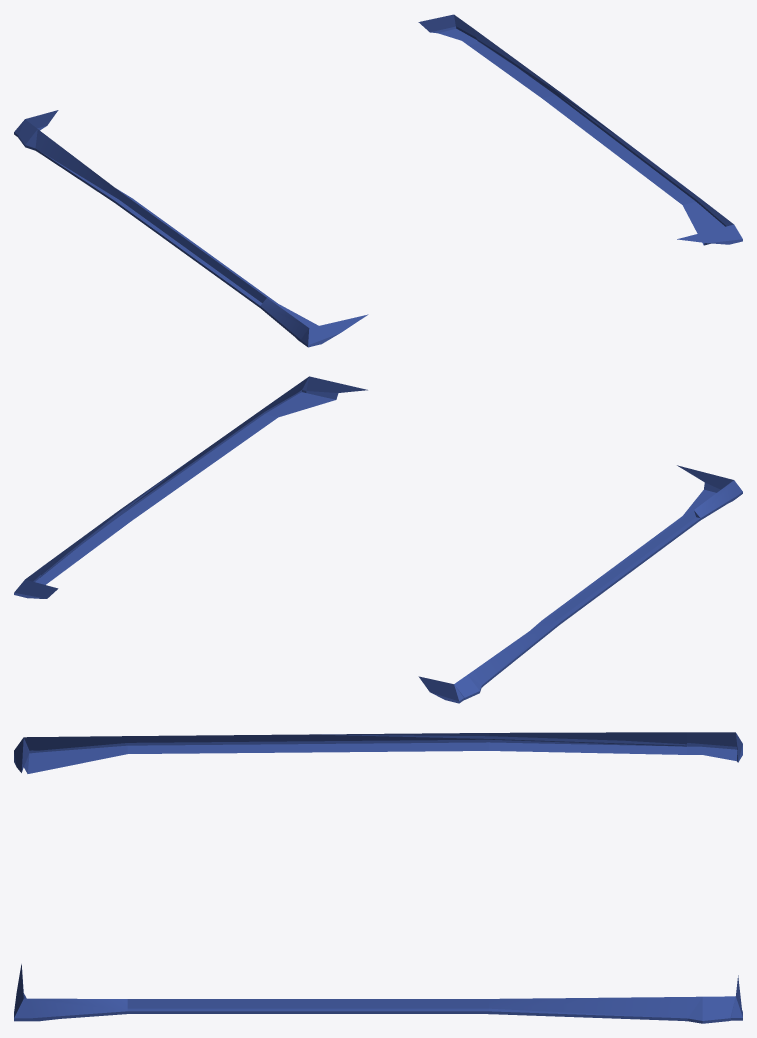
The model's file is Amg_Skirt_fx (1).fbx.
3 renders of one model, top to bottom at view 1: azimuth 30°, elevation 25°; view 2: azimuth 150°, elevation 25°; view 3: azimuth 270°, elevation 25°, orthographic. The views are drawn at different scales.
Parts seen in each view (by area): view 1: Amg:Amg_Skirt1, Amg:Amg_Skirt2, Amg:Amg_Skirt3; view 2: Amg:Amg_Skirt1, Amg:Amg_Skirt2, Amg:Amg_Skirt3; view 3: Amg:Amg_Skirt1, Amg:Amg_Skirt2, Amg:Amg_Skirt3.
Part boxes in pixels (x1=…): Amg:Amg_Skirt1: x1=14, y1=38, x2=742, y2=347; Amg:Amg_Skirt2: x1=18, y1=14, x2=724, y2=340; Amg:Amg_Skirt3: x1=454, y1=14, x2=621, y2=138; Amg:Amg_Skirt1: x1=14, y1=377, x2=742, y2=703; Amg:Amg_Skirt2: x1=37, y1=376, x2=735, y2=699; Amg:Amg_Skirt3: x1=25, y1=460, x2=189, y2=581; Amg:Amg_Skirt1: x1=14, y1=733, x2=742, y2=1021; Amg:Amg_Skirt2: x1=21, y1=732, x2=737, y2=1023; Amg:Amg_Skirt3: x1=309, y1=732, x2=736, y2=749.
Bounding box in the file's own units: 170 × 6.55 × 187.
